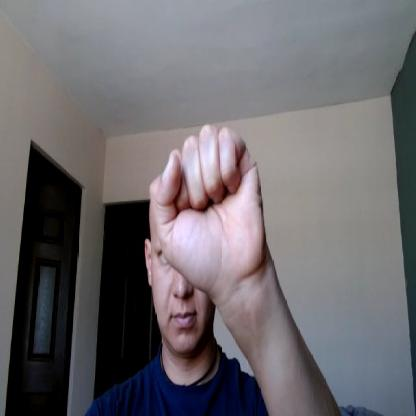S: (150, 124, 265, 286)
